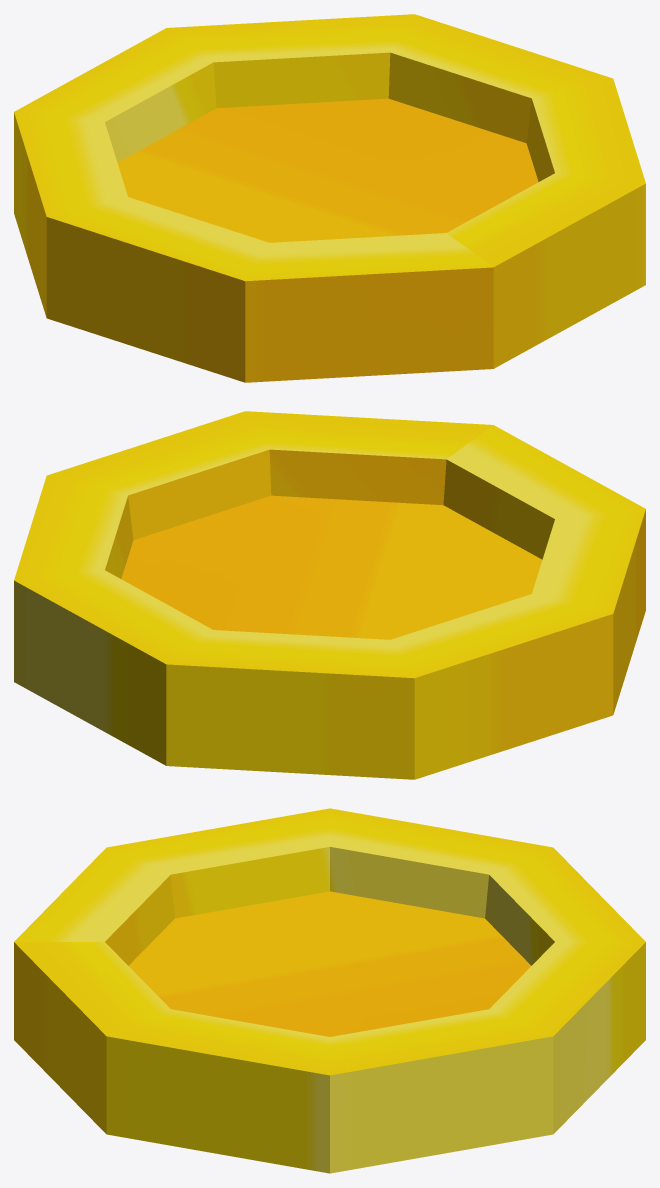
Rendered from Coin_1.fbx.
3 renders of one model, top to bottom at view 1: azimuth 30°, elevation 25°; view 2: azimuth 150°, elevation 25°; view 3: azimuth 270°, elevation 25°, orthographic. The views are drawn at different scales.
Parts seen in each view (by area): view 1: Coin_1; view 2: Coin_1; view 3: Coin_1.
Part boxes in pixels (bbox=[...]): Coin_1: bbox=[14, 14, 645, 382]; Coin_1: bbox=[14, 411, 645, 779]; Coin_1: bbox=[14, 808, 645, 1173].
Bounding box in the file's own units: 206 × 35.31 × 206.
